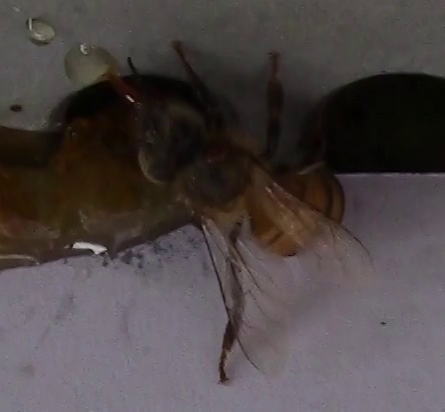Varroa destructor: (201, 141, 232, 164)
